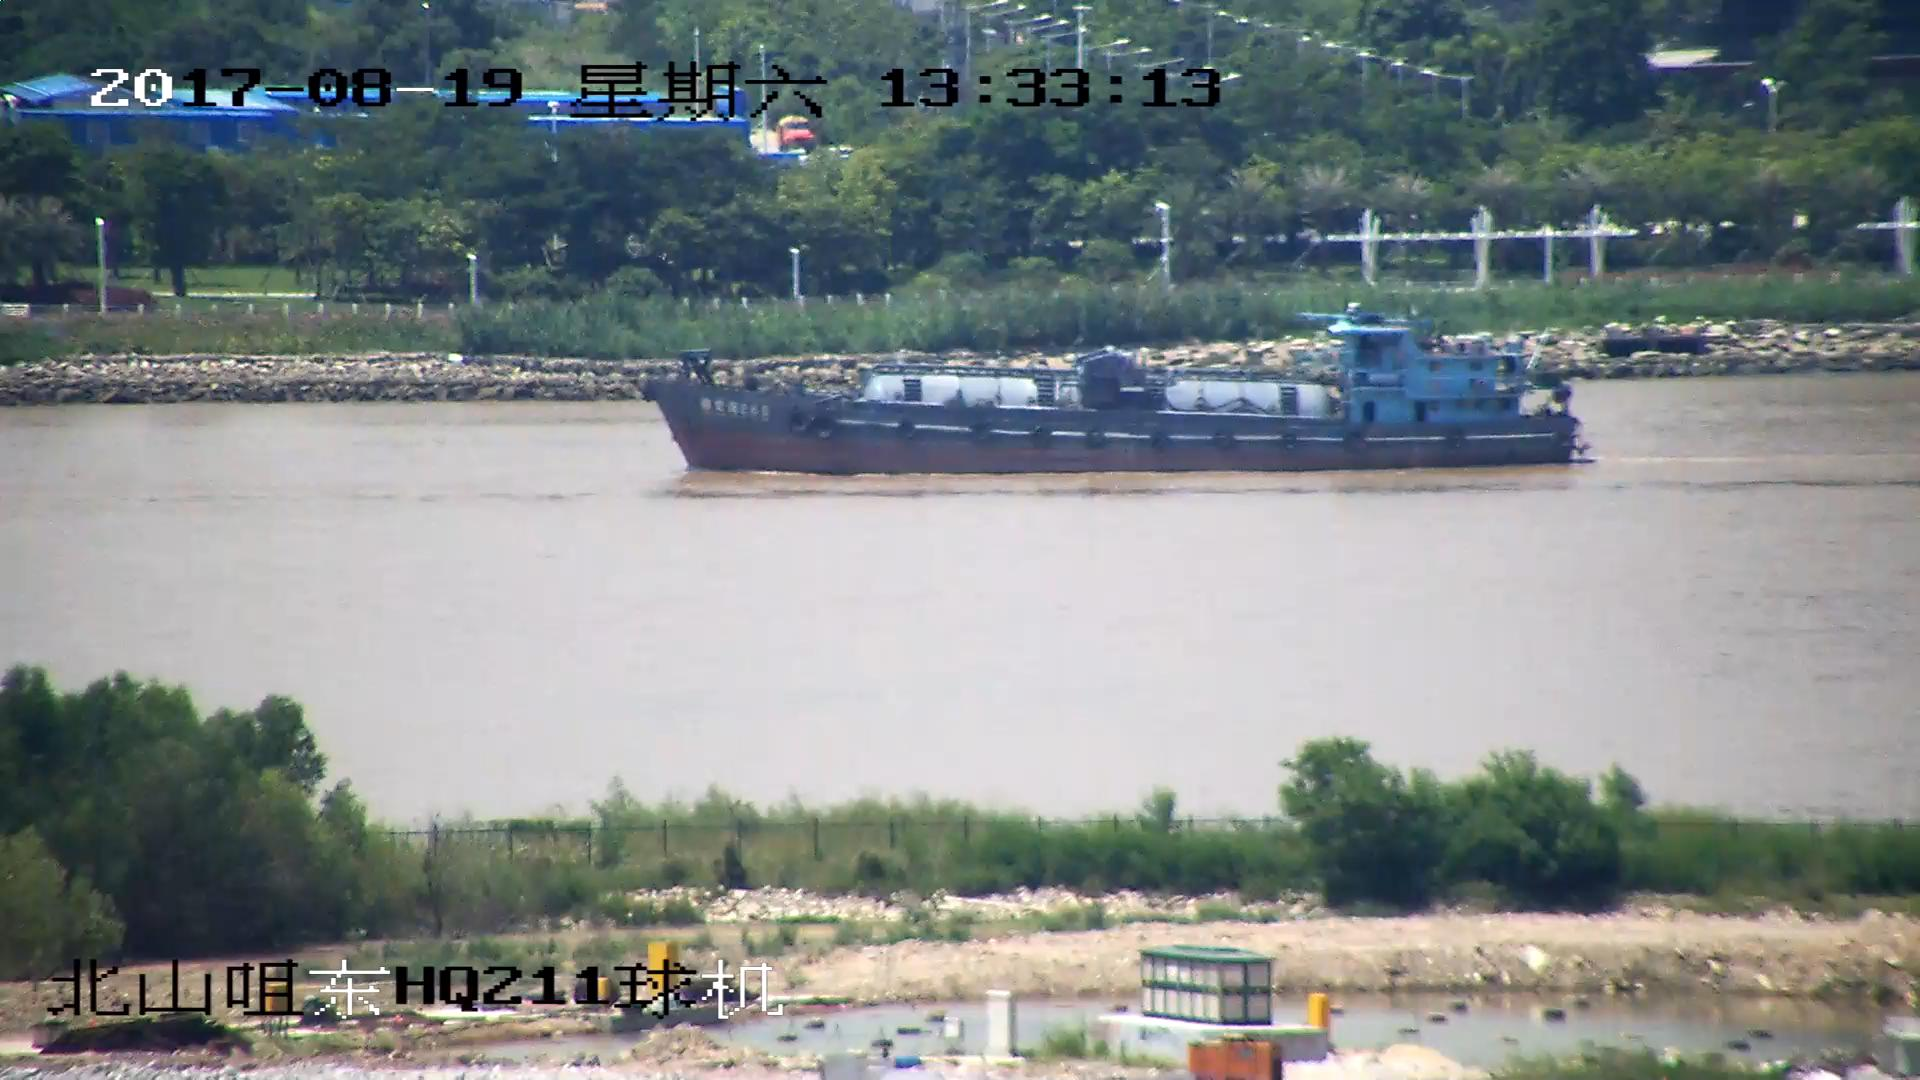bulk cargo carrier: (631, 310, 1583, 475)
